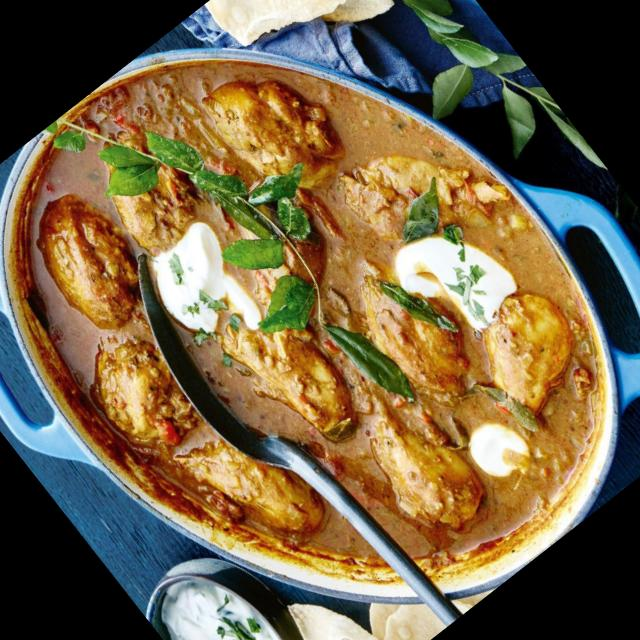chicken: (6, 25, 628, 640)
